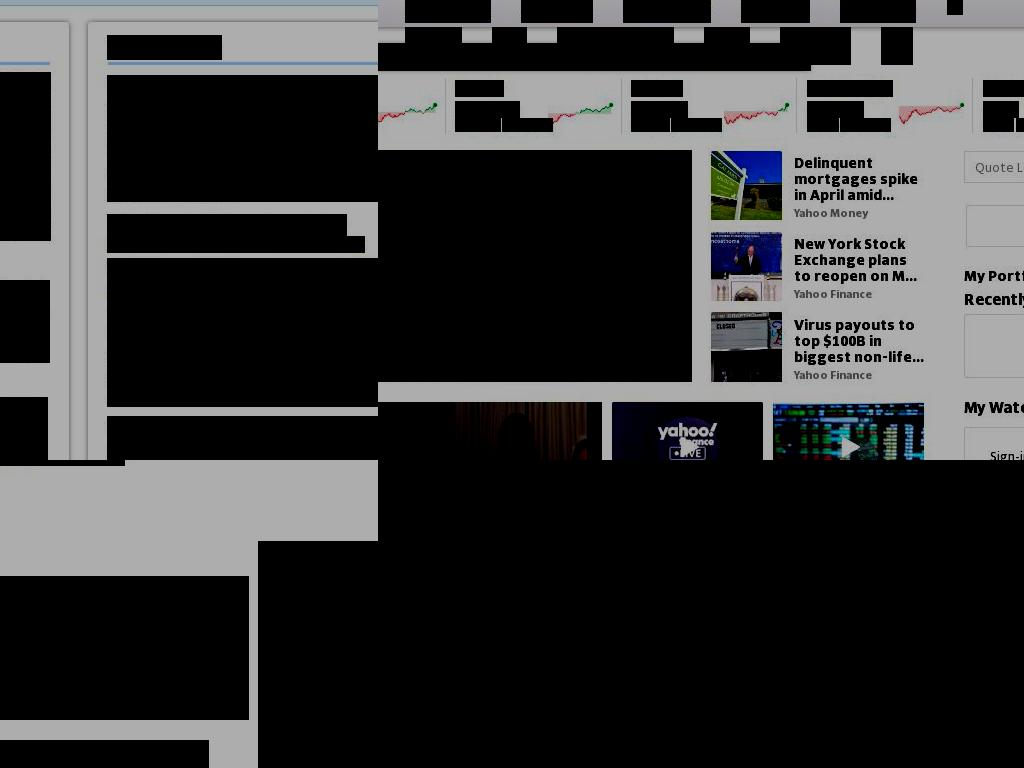button: (378, 587, 624, 768), (643, 460, 951, 594), (378, 254, 667, 382), (711, 150, 924, 221), (711, 231, 924, 301), (711, 312, 924, 382), (378, 43, 811, 71), (643, 707, 951, 746), (602, 401, 763, 460), (763, 401, 924, 460), (643, 600, 951, 625), (643, 639, 951, 659), (643, 673, 951, 693), (378, 555, 624, 574), (557, 27, 674, 65), (964, 202, 1024, 249), (780, 27, 851, 65), (643, 760, 951, 768), (405, 27, 462, 65), (623, 0, 711, 23), (405, 0, 491, 23), (840, 0, 916, 23), (704, 27, 750, 65), (521, 0, 593, 23), (741, 0, 810, 23), (492, 27, 527, 65), (881, 27, 913, 65), (964, 289, 1024, 309)
field: (964, 150, 1024, 183)
heading: (0, 576, 249, 720), (378, 460, 624, 577), (378, 254, 667, 305), (643, 706, 919, 746), (643, 598, 941, 627), (793, 154, 924, 203), (793, 235, 924, 284), (793, 316, 924, 365), (643, 638, 937, 659), (643, 672, 927, 693), (107, 35, 222, 60), (643, 759, 911, 768), (970, 710, 1024, 750), (807, 80, 893, 97), (455, 101, 520, 118), (631, 101, 688, 118), (807, 101, 864, 118), (631, 80, 683, 97), (455, 80, 504, 97), (983, 80, 1024, 97), (455, 118, 501, 132), (983, 101, 1019, 118), (507, 118, 549, 132), (676, 118, 718, 132), (845, 118, 887, 132), (631, 118, 670, 132), (807, 118, 839, 132), (983, 118, 1014, 132), (502, 118, 508, 132), (671, 118, 677, 132), (840, 118, 846, 132), (548, 118, 553, 132), (717, 118, 722, 132), (886, 118, 891, 132), (1016, 118, 1021, 132)
iframe: (378, 460, 1024, 768)
image: (378, 150, 692, 382), (378, 587, 624, 768), (643, 460, 951, 594), (258, 541, 378, 768), (378, 401, 602, 460), (612, 401, 763, 460), (773, 401, 924, 460), (0, 72, 51, 241), (711, 150, 782, 221), (711, 231, 782, 302), (711, 312, 782, 383), (657, 417, 718, 460), (818, 417, 879, 460), (784, 46, 804, 67), (947, 0, 963, 15), (906, 0, 916, 13)
link: (378, 338, 667, 382), (107, 258, 378, 297), (378, 304, 667, 339), (107, 214, 347, 253), (711, 205, 924, 220), (711, 286, 924, 301), (711, 367, 924, 382), (107, 75, 168, 92), (298, 119, 323, 136)
text: (107, 280, 378, 407), (107, 119, 378, 202), (107, 75, 378, 136), (107, 416, 378, 460), (643, 554, 724, 594), (107, 214, 290, 231), (107, 258, 272, 275), (173, 236, 320, 253), (395, 48, 502, 65), (272, 258, 351, 275), (964, 289, 1024, 308), (964, 397, 1024, 416), (671, 48, 735, 65), (964, 266, 1024, 284), (515, 48, 577, 65), (840, 0, 901, 14), (320, 236, 365, 253), (740, 48, 779, 65), (593, 48, 626, 65), (630, 48, 653, 65), (378, 48, 392, 65), (580, 48, 593, 65), (626, 48, 630, 65), (502, 48, 505, 65)
